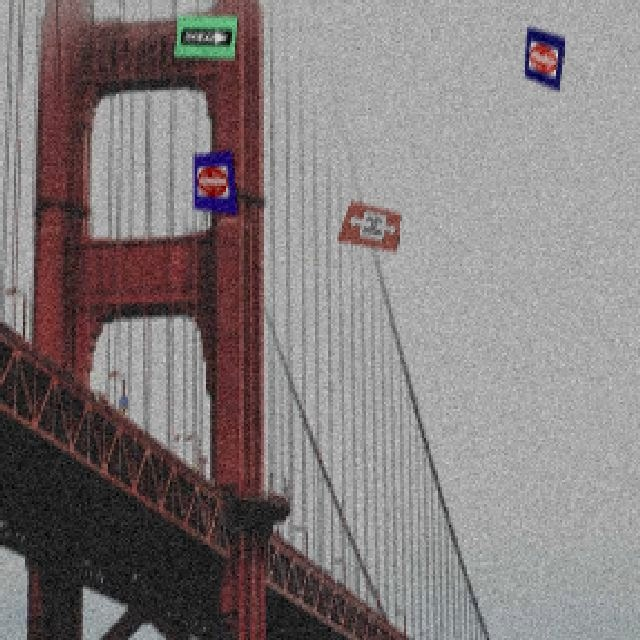DO_NOT_ENTER: (524, 39, 560, 77), (196, 163, 229, 197)
DO_NOT_GO_AROUND: (342, 204, 398, 245)
ONE_WAY_ right: (179, 27, 231, 45)
